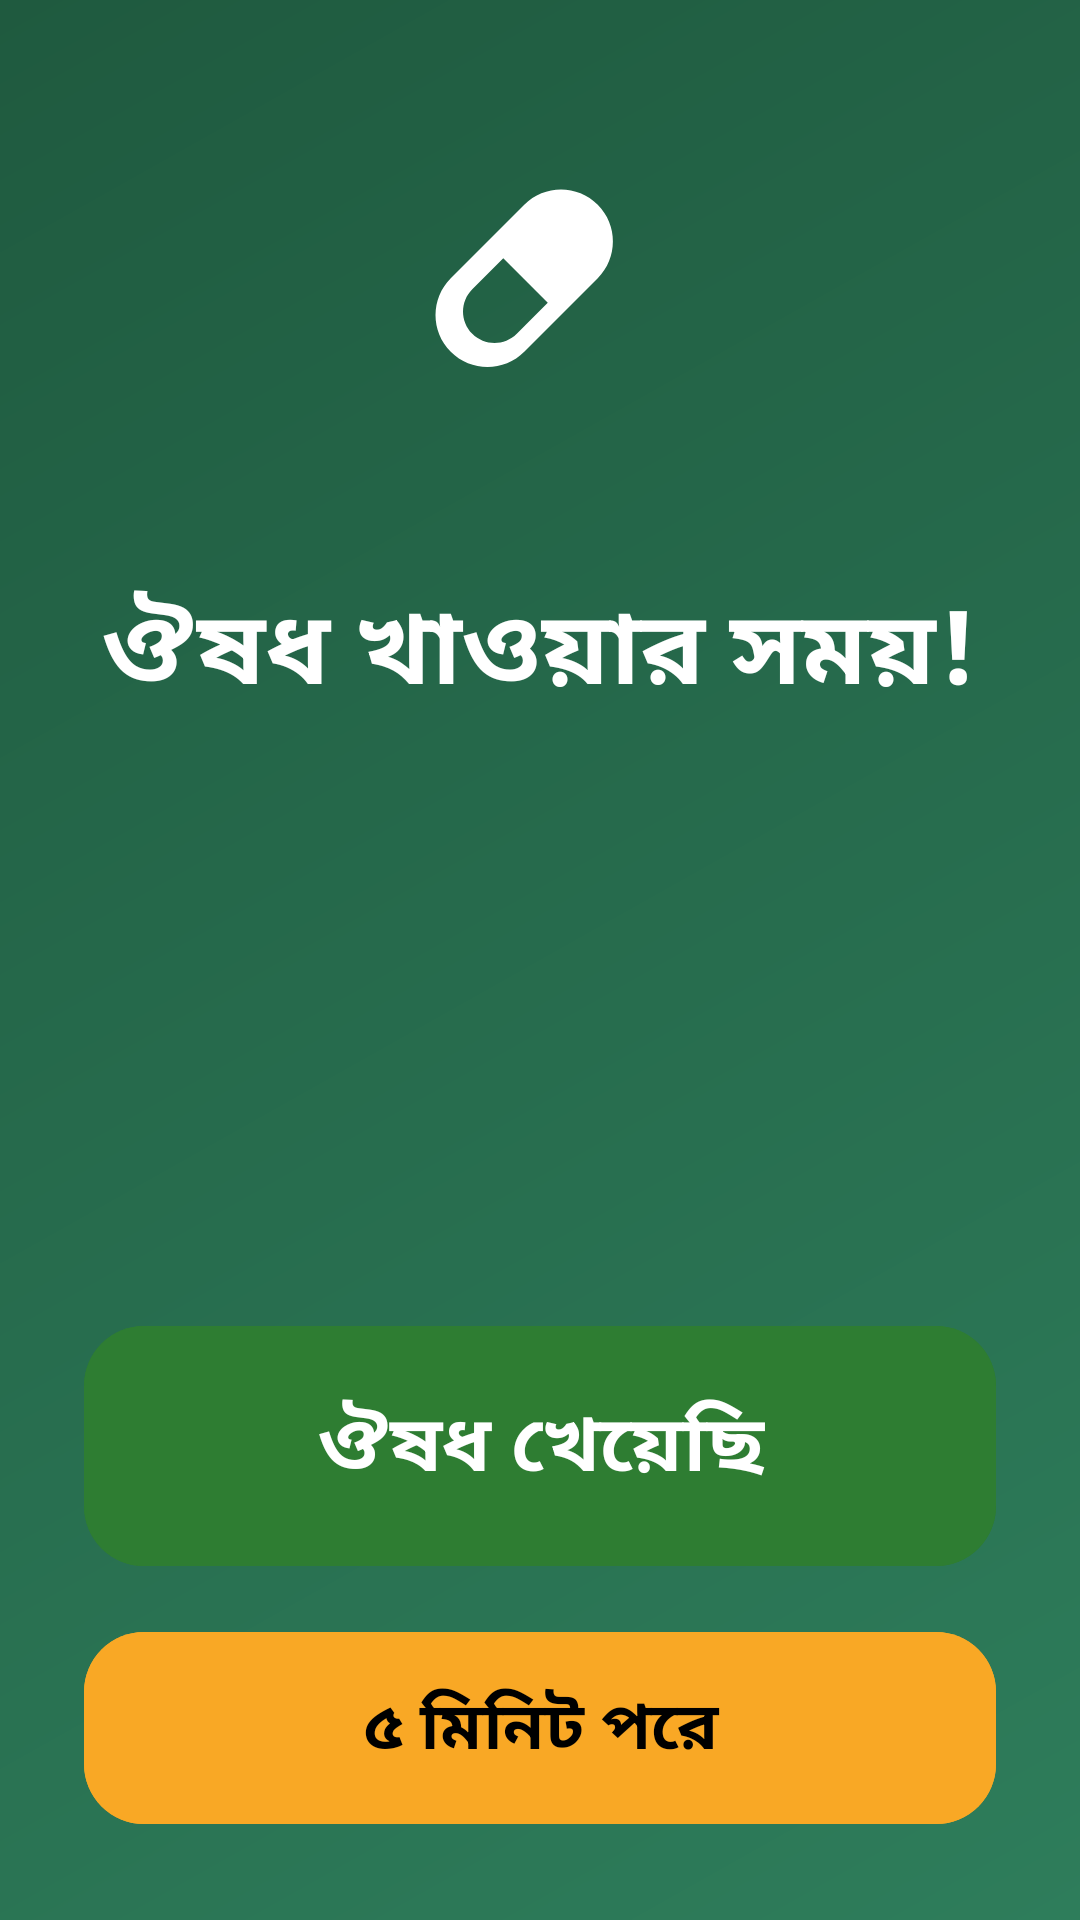

Point at icon controls on the screen. Image size 1080*1920, points as (x=x, y=y).
pill: (x=524, y=278)
